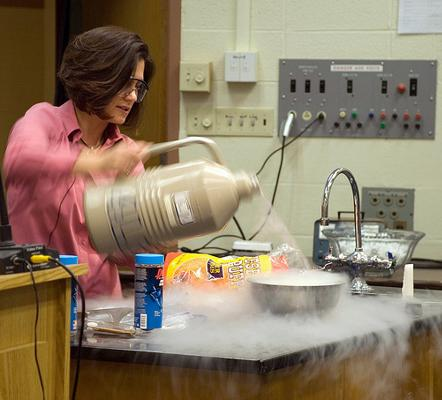person: (4, 26, 180, 299)
